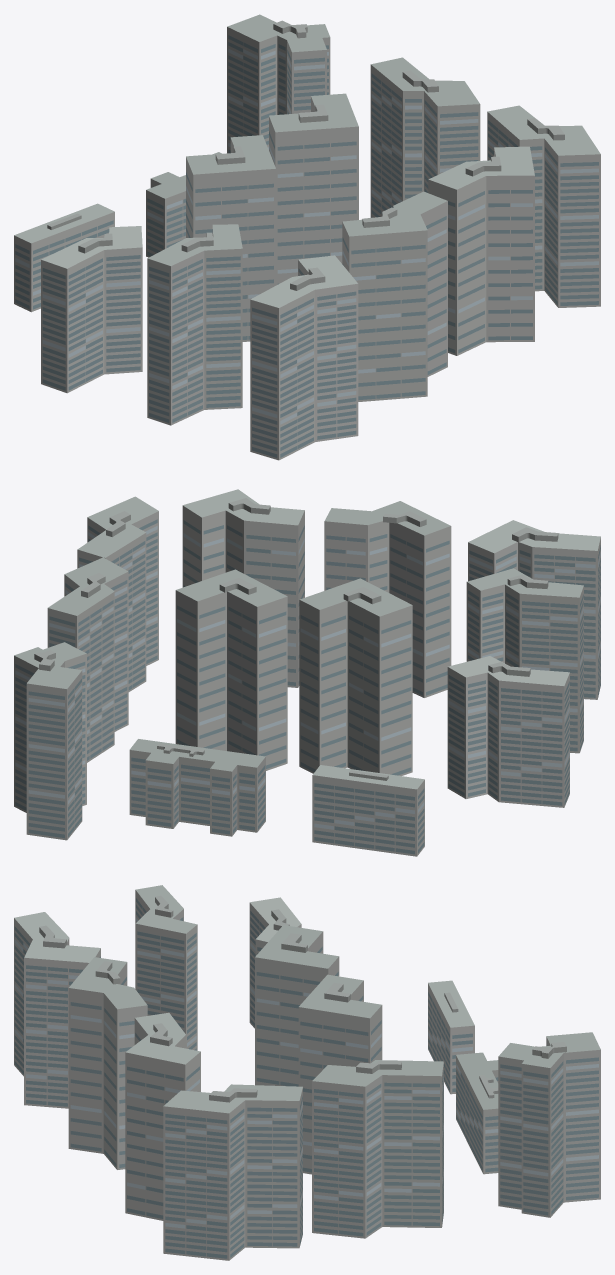
The model's file is apt-a10025823.glb.
3 views of the same model, one above another, from view 1: azimuth 30°, elevation 25°; view 2: azimuth 150°, elevation 25°; view 3: azimuth 270°, elevation 25° (orthographic). The views are drawn at different scales.
Parts seen in each view (by area): view 1: apt-a10025823; view 2: apt-a10025823; view 3: apt-a10025823.
Boxes of the visible parts, x1,y1,x2,y2 form: apt-a10025823: (14, 14, 600, 460); apt-a10025823: (14, 489, 600, 856); apt-a10025823: (14, 885, 600, 1260).
Bounding box in the file's own units: 232 × 76 × 237.
